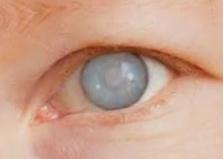eye: (80, 53, 148, 109)
